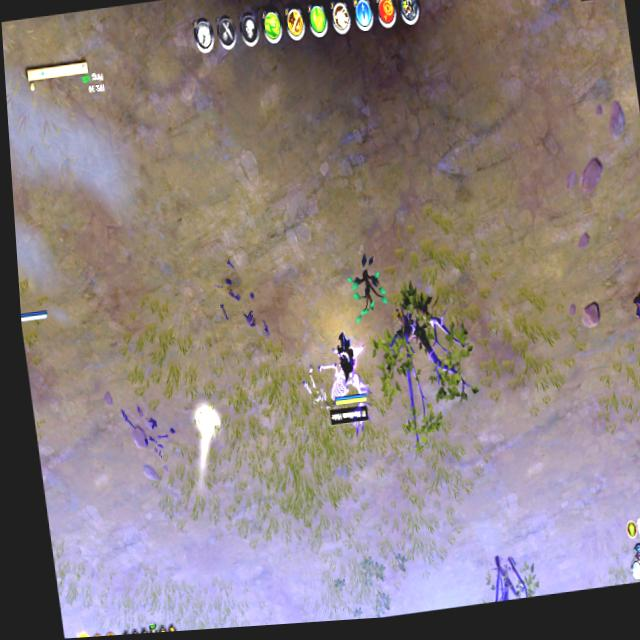red: (326, 330, 370, 410), (20, 302, 53, 331)
stone: (196, 401, 219, 437)
